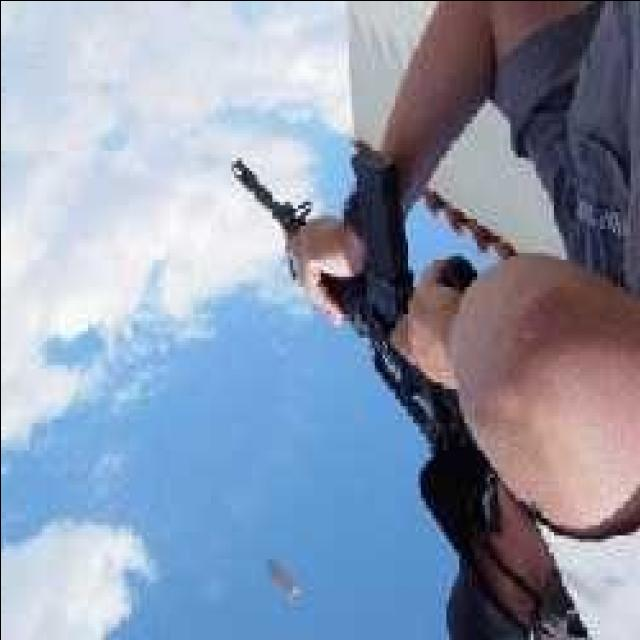heavyweapon: (216, 117, 508, 495)
